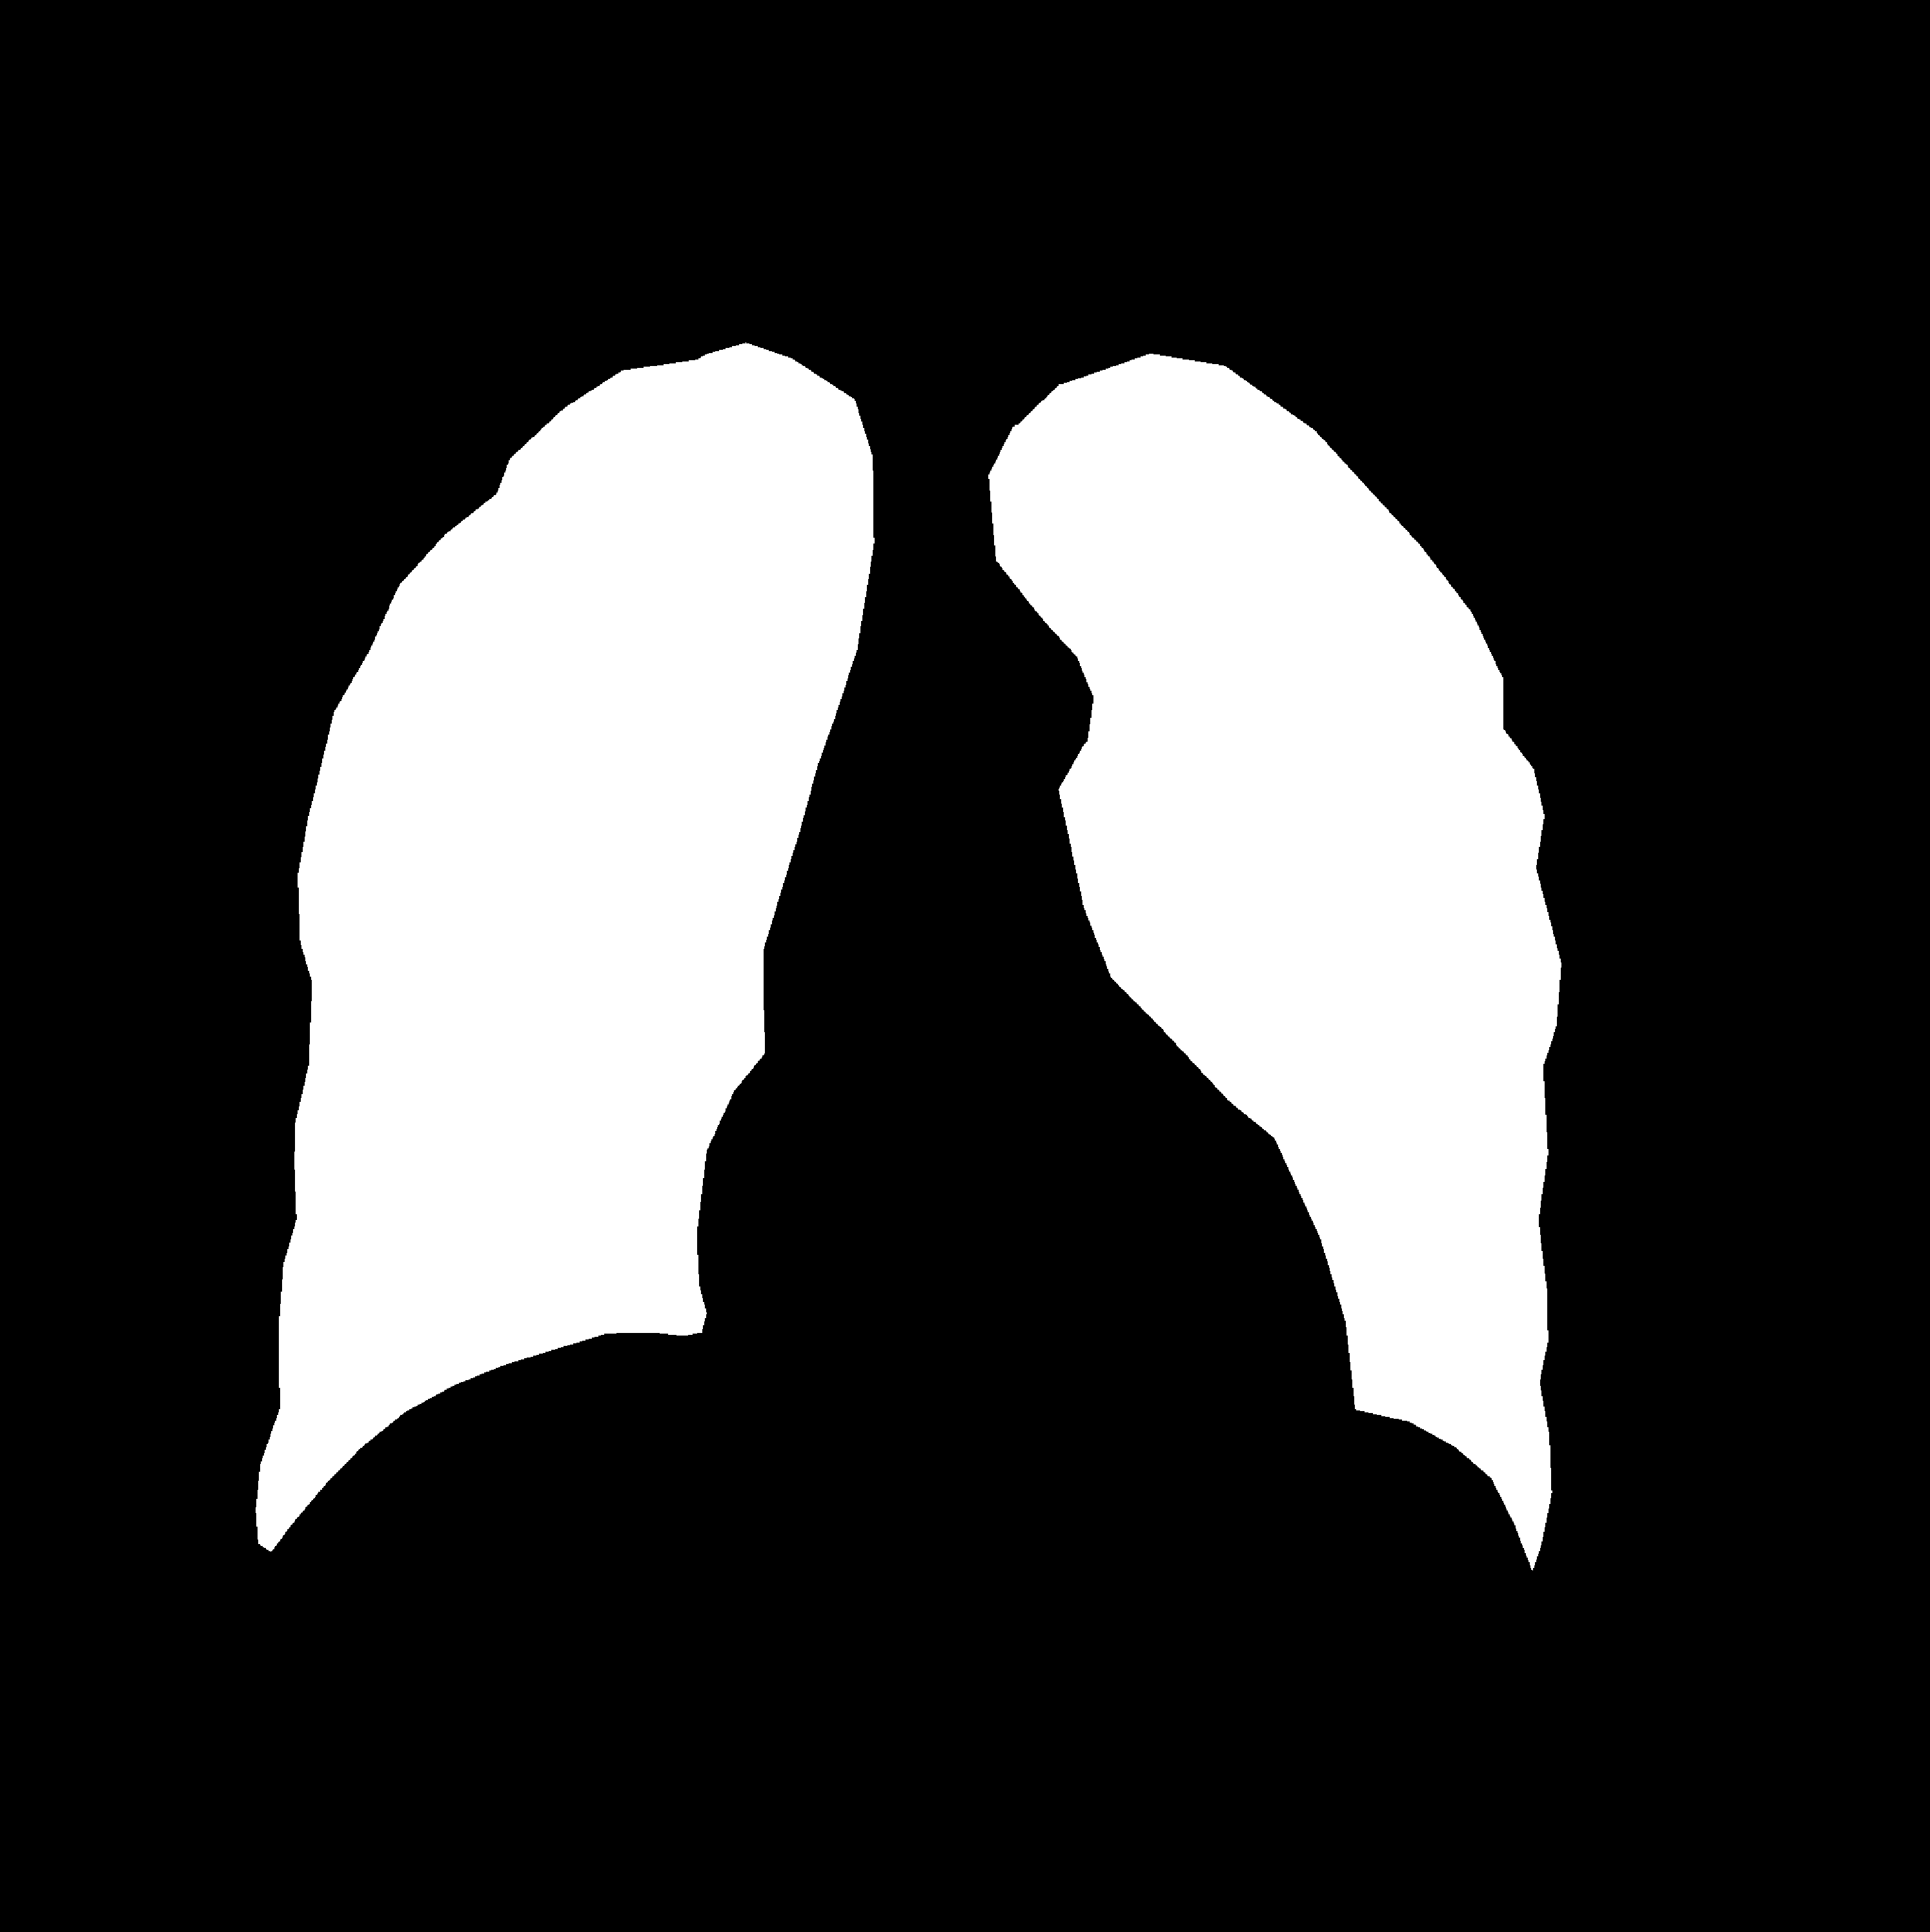heart: (695, 1032, 1349, 1487)
left_lung: (256, 343, 875, 1552)
right_lung: (988, 354, 1561, 1570)
